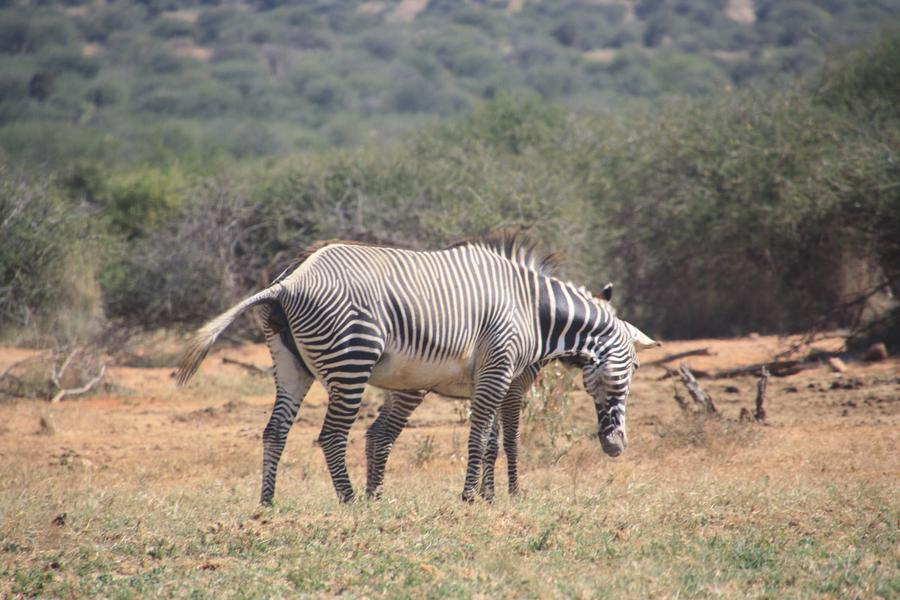zebra_grevys: (275, 229, 535, 367)
